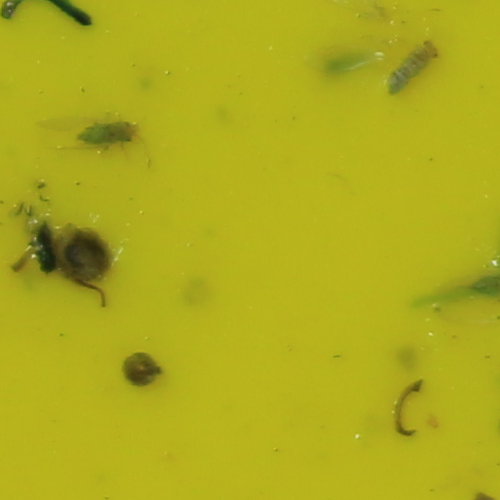Glycaspis: (76, 120, 141, 148)
